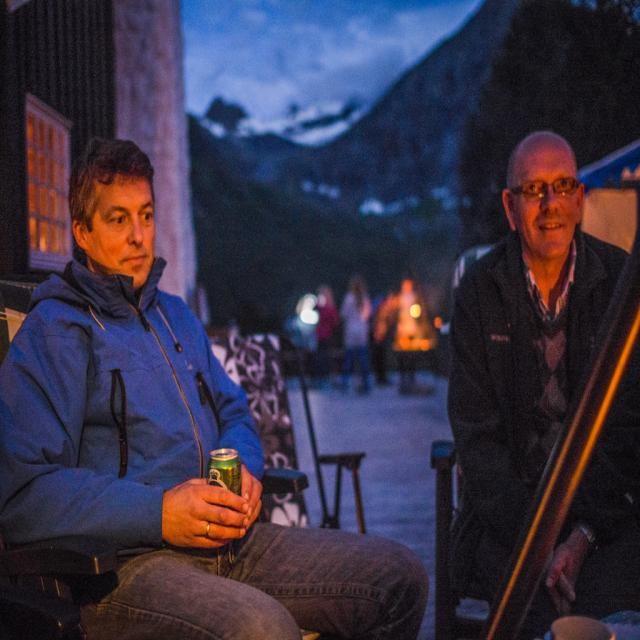Glasses: (510, 179, 585, 201)
